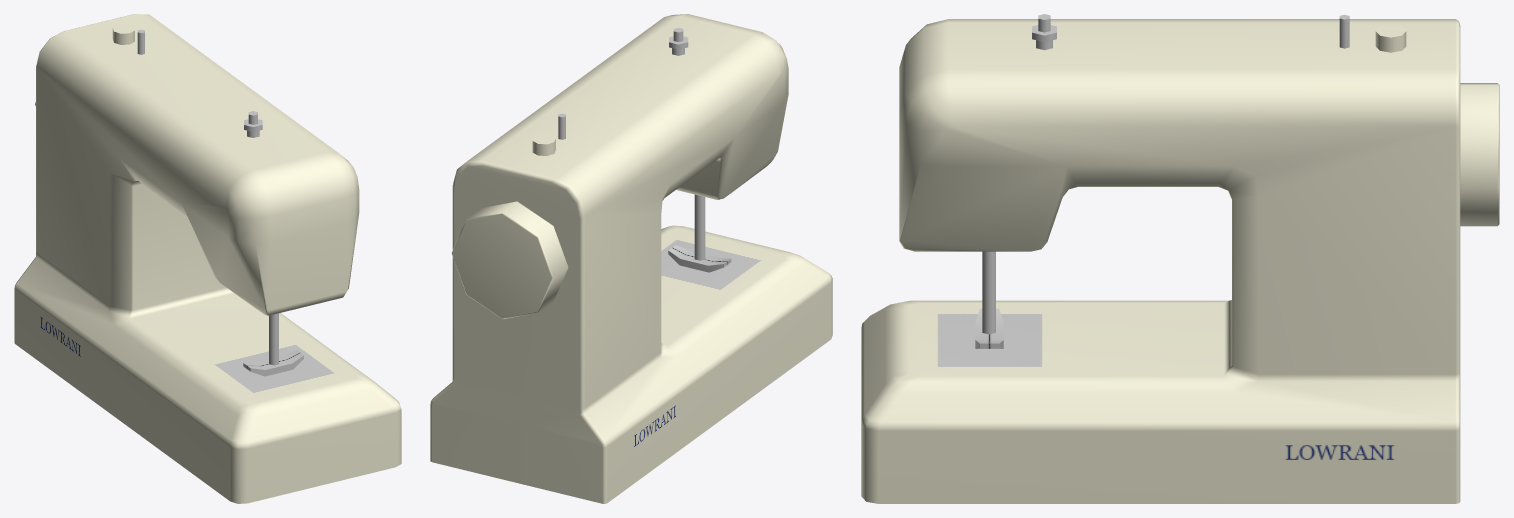
File: OBJ_Nähmaschine.fbx
The picture shows the model from 3 angles, left to right: view 1: azimuth 30°, elevation 25°; view 2: azimuth 150°, elevation 25°; view 3: azimuth 270°, elevation 25°; orthographic projection. The views are drawn at different scales.
Visible parts, largest first — view 1: pCube3; view 2: pCube3; view 3: pCube3.
Part boxes in pixels (x1=…): pCube3: x1=14, y1=14, x2=401, y2=503; pCube3: x1=430, y1=14, x2=832, y2=503; pCube3: x1=861, y1=14, x2=1499, y2=503.
Size of the model in its own units: 0.18 by 0.3259 by 0.4369.
1 material, 1 textured.
